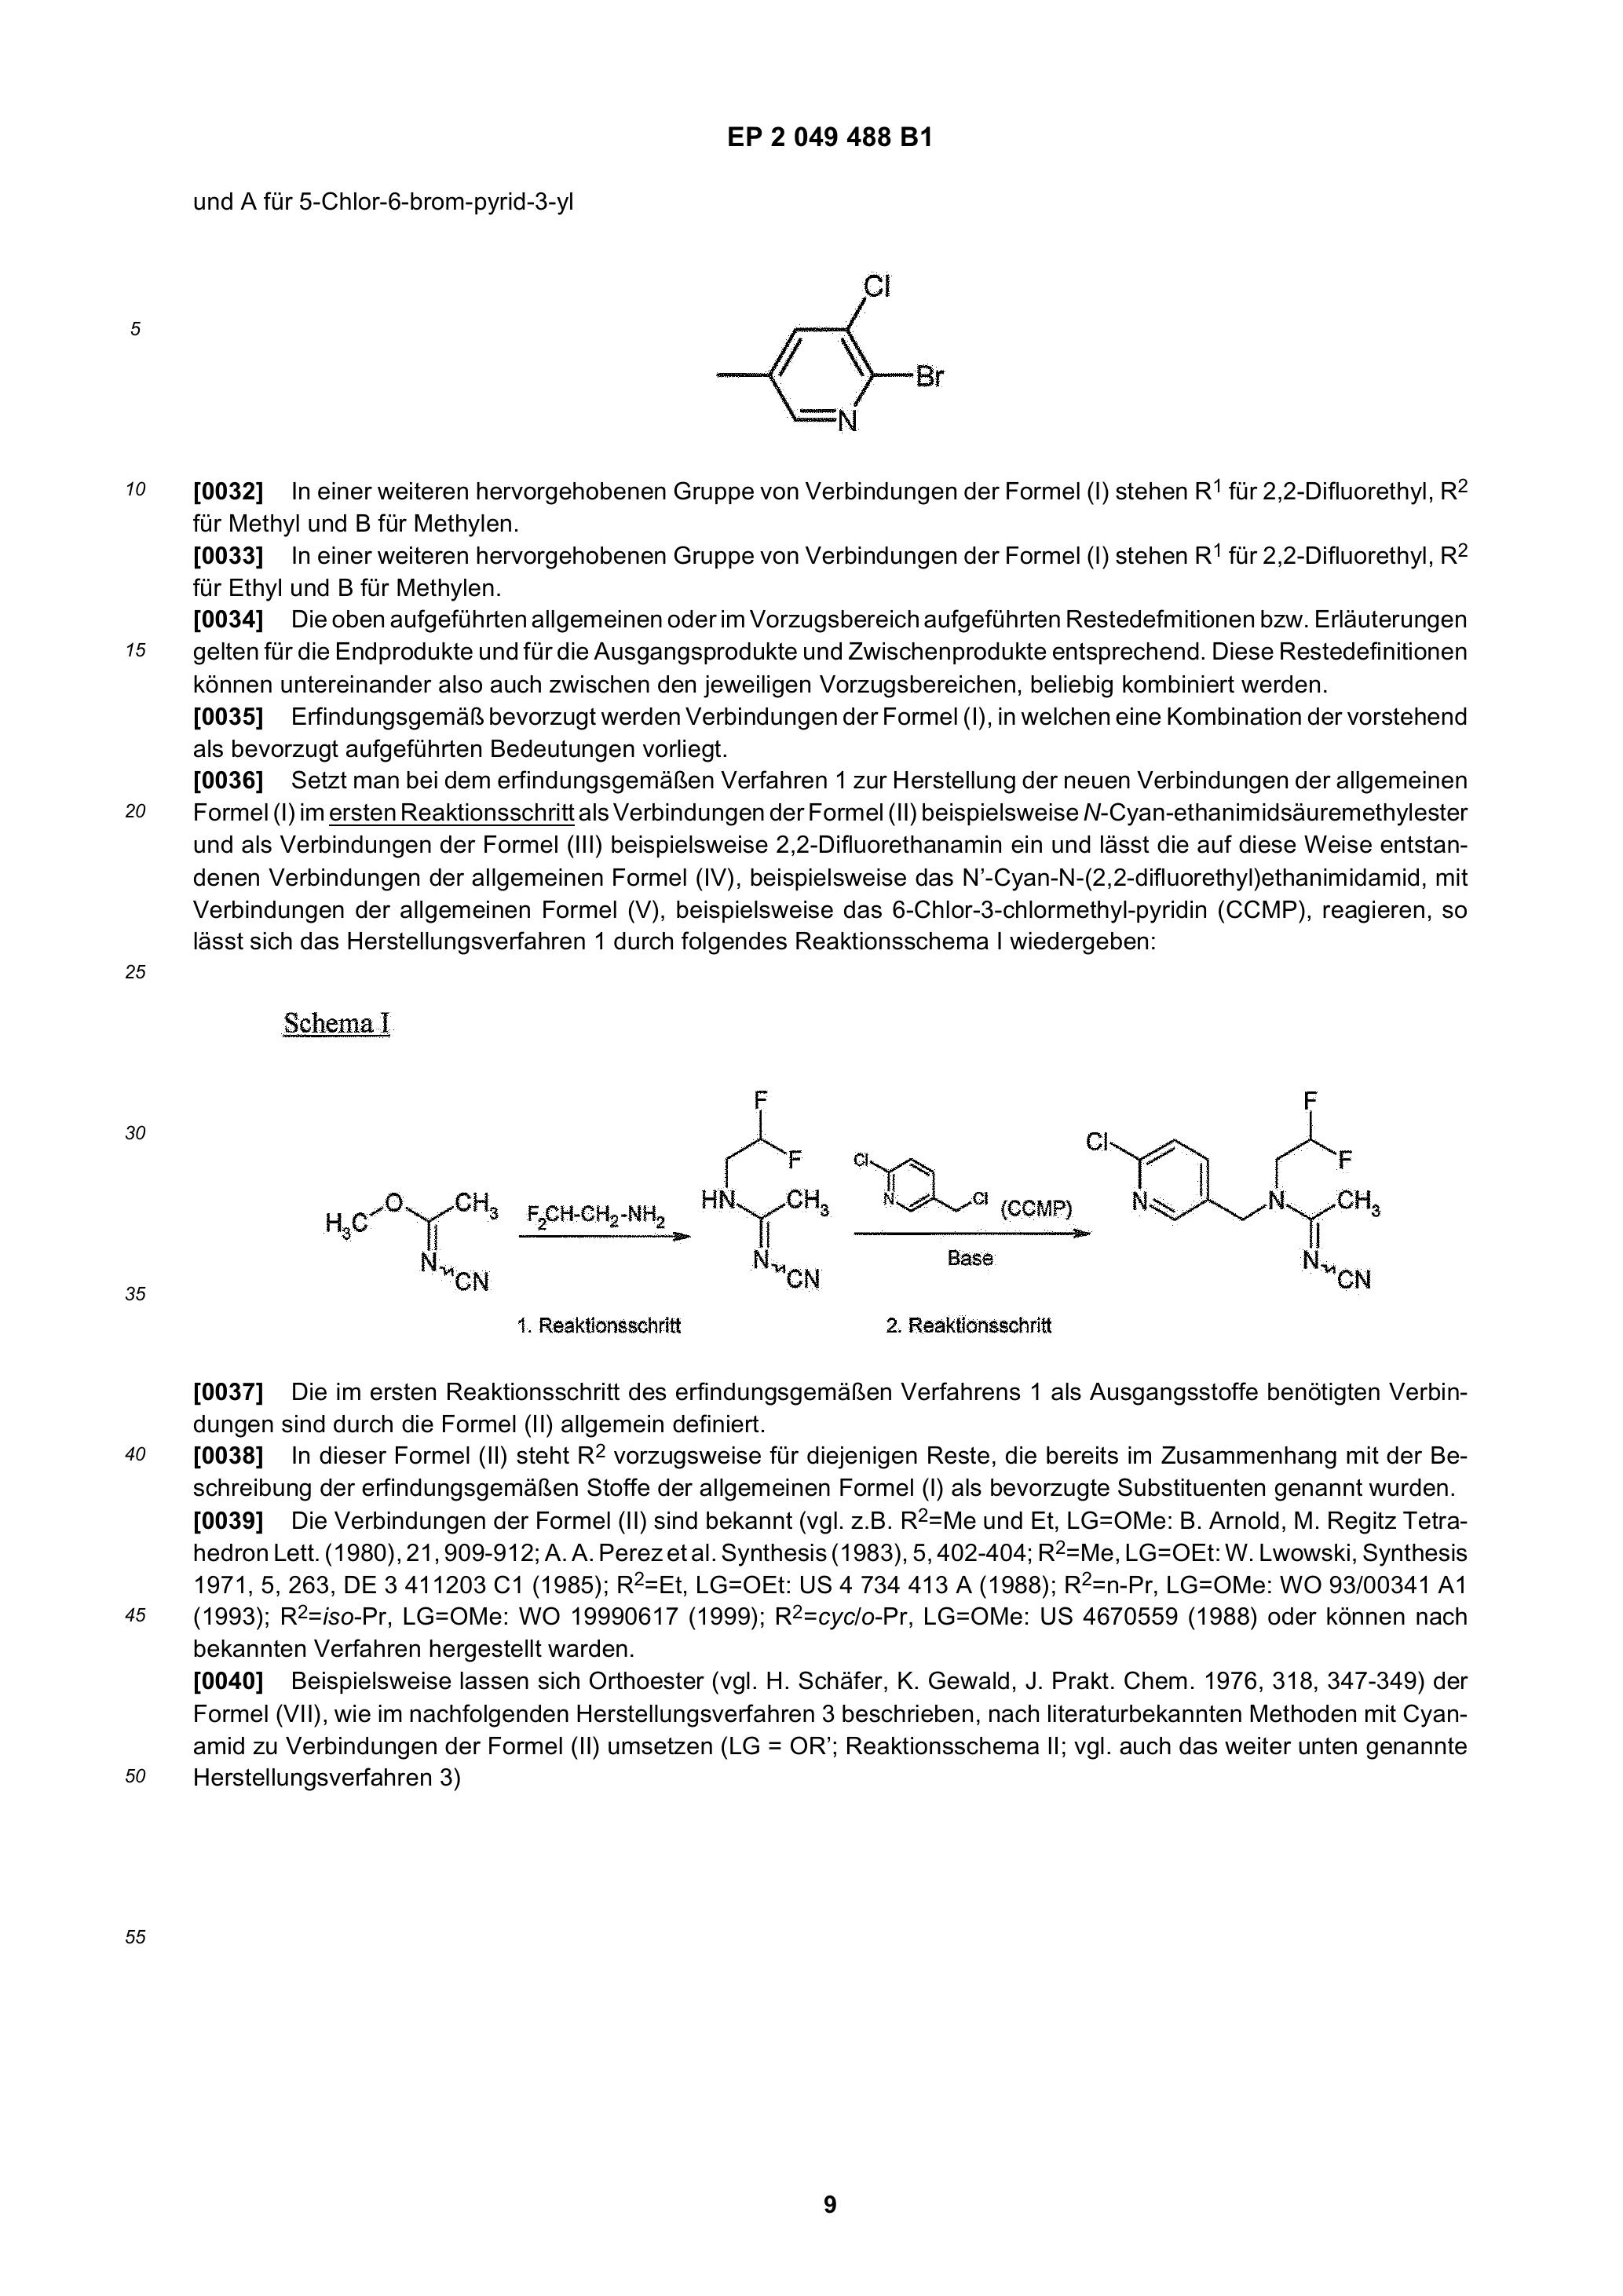intermediates: (704, 249, 963, 462)
reactions: (281, 1036, 1416, 1363)
